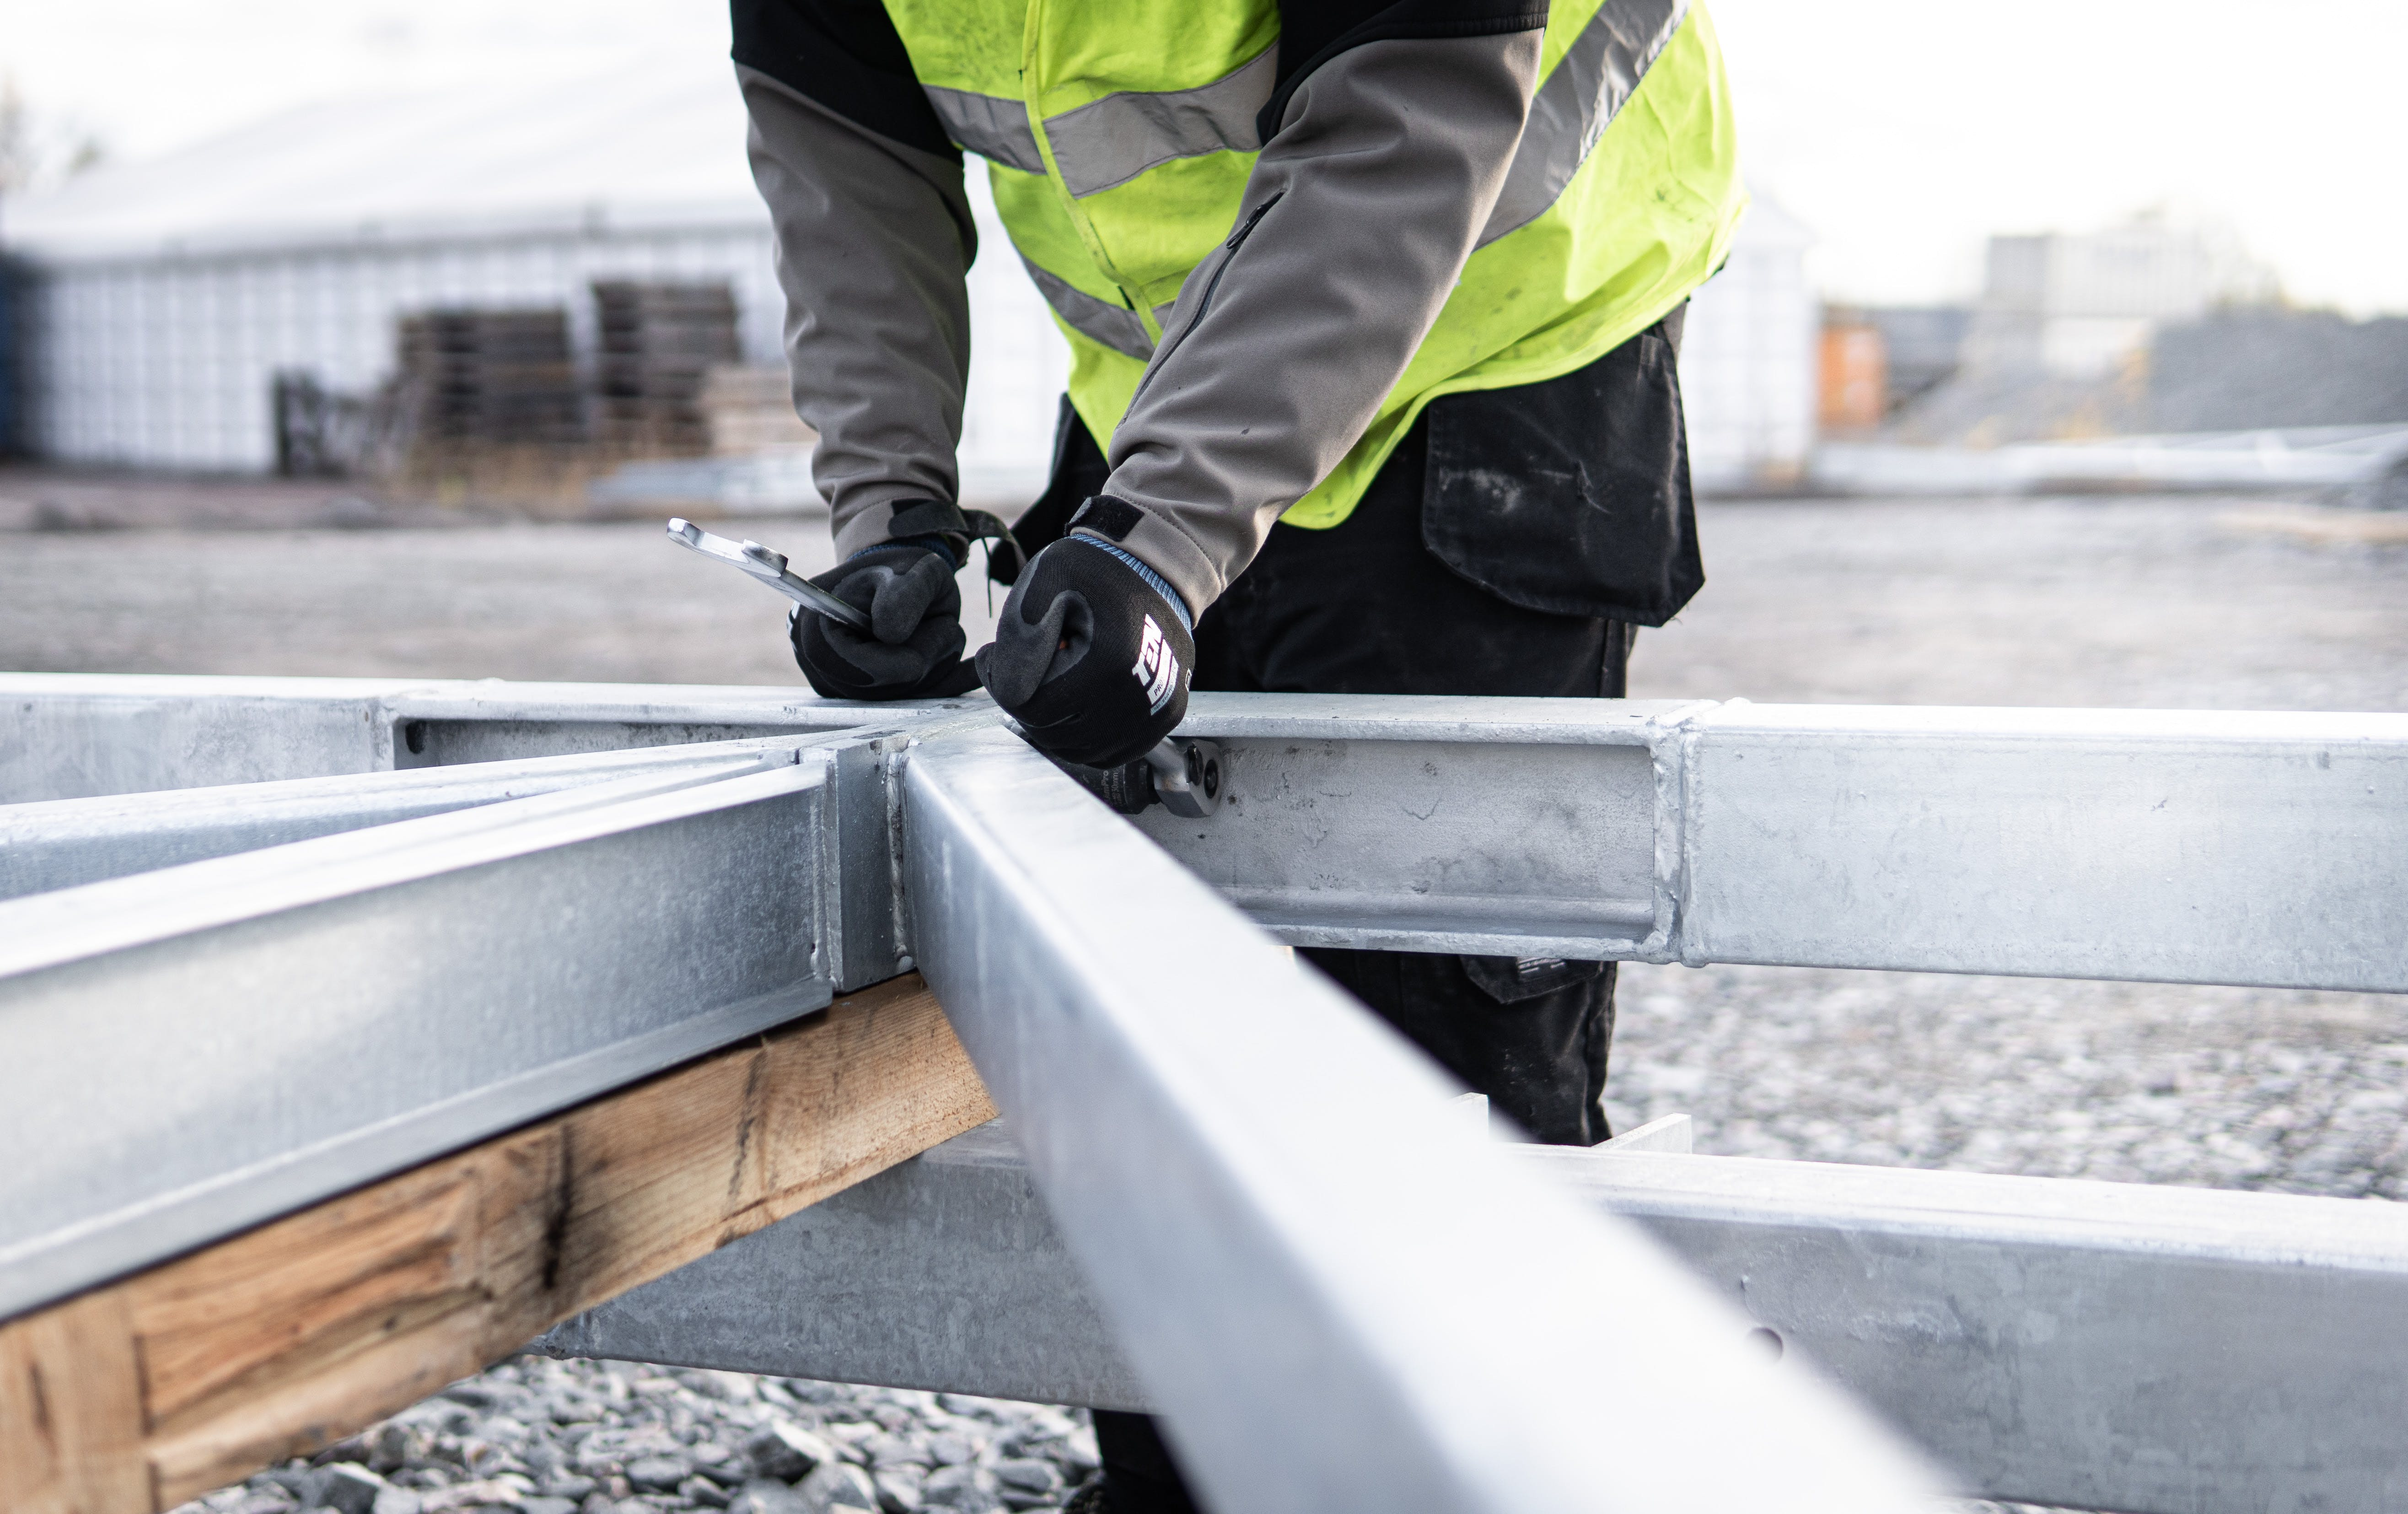Gloves: (996, 513, 1203, 766), (755, 530, 966, 708)
Safety Vest: (870, 0, 1733, 525)
